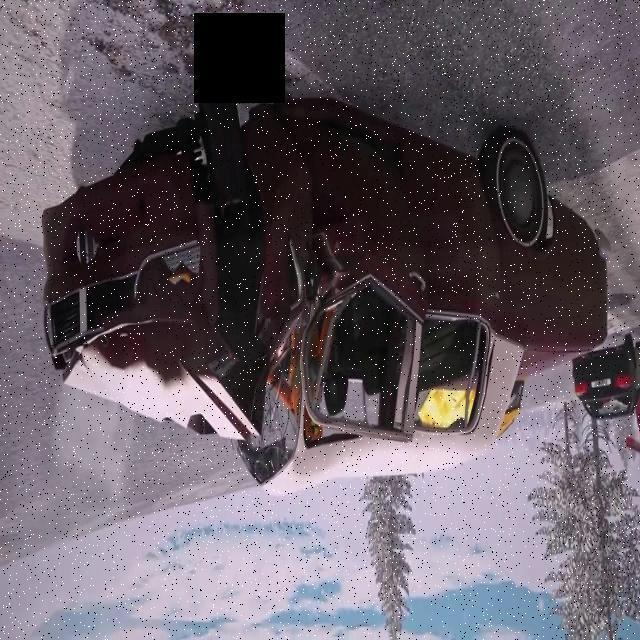vehicle: (0, 42, 624, 474)
